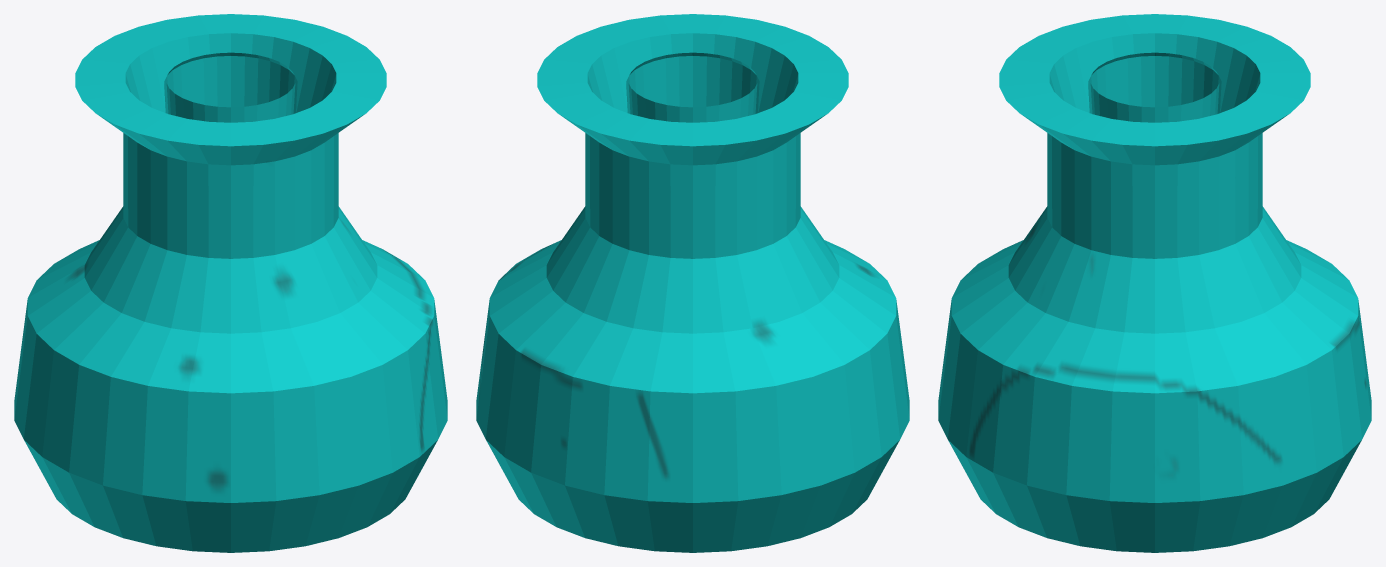
3 renders of one model, left to right at view 1: azimuth 30°, elevation 25°; view 2: azimuth 150°, elevation 25°; view 3: azimuth 270°, elevation 25°, orthographic.
Visible parts, largest first — view 1: algeomath; view 2: algeomath; view 3: algeomath.
Boxes of the visible parts, bbox=[...] form: algeomath: bbox=[14, 14, 447, 552]; algeomath: bbox=[476, 14, 909, 552]; algeomath: bbox=[938, 14, 1371, 552].
Bounding box in the file's own units: 7.58 × 7.74 × 7.54.
Materials: 1 (1 with a texture image).
